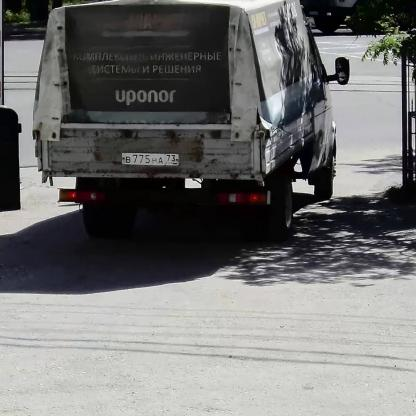plate: (122, 152, 178, 166)
